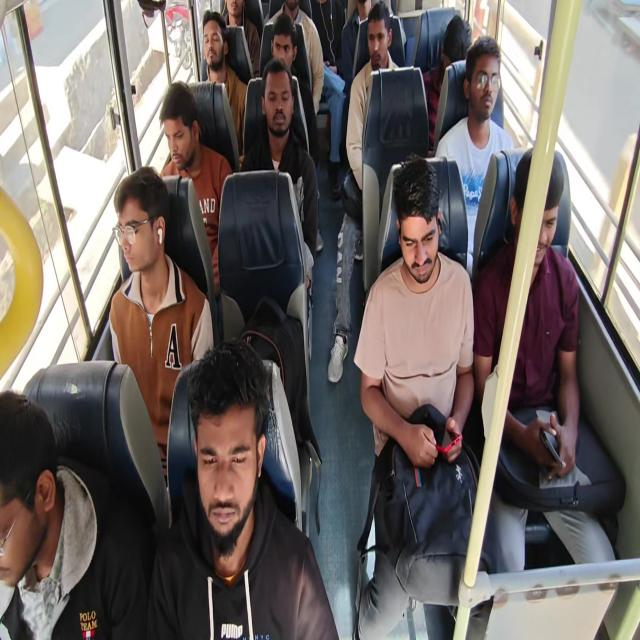person: (163, 331, 293, 640), (499, 160, 640, 350), (0, 397, 126, 580), (115, 170, 186, 334), (367, 163, 435, 306), (240, 71, 314, 179), (469, 38, 517, 148), (163, 86, 203, 190), (310, 0, 349, 97), (370, 10, 408, 85), (443, 11, 479, 72), (192, 29, 231, 83), (274, 0, 316, 47), (268, 24, 299, 78), (225, 0, 254, 47), (351, 0, 375, 24)
